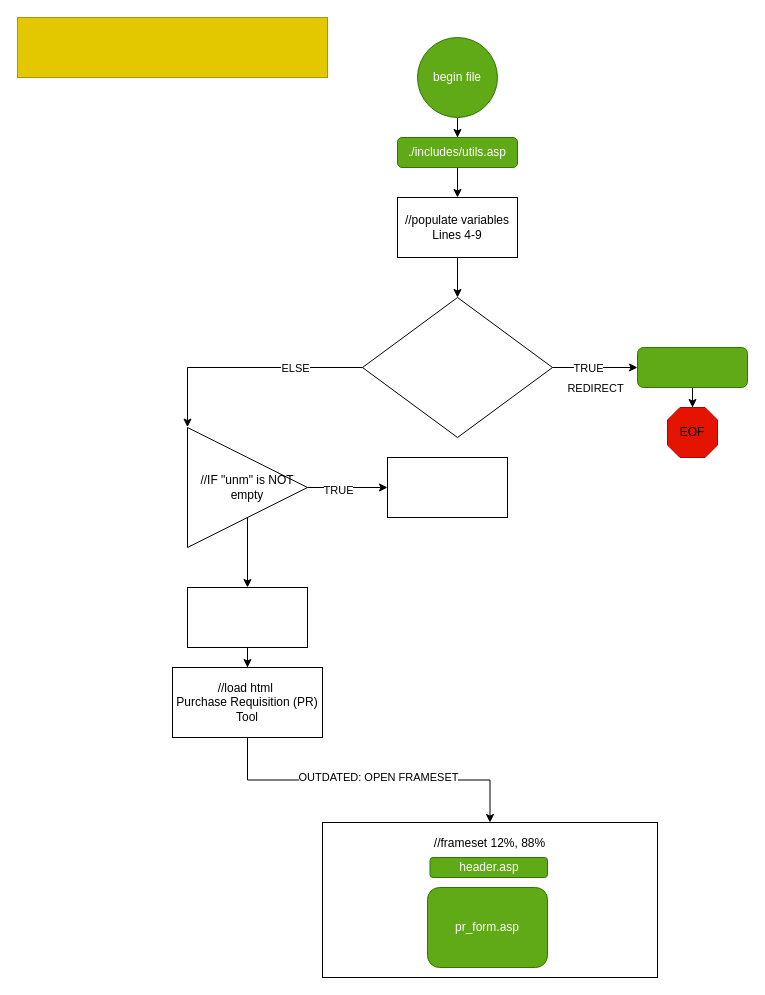
This 765x995 diagram has some shape labels left out. Each missing label, with the centre of its shape:
//IF "ssid" OR "uid" are empty: pixel 457 367
//populate session variables with defined variables above Lines 19-22: pixel 247 617
index.asp: pixel 692 367
make "unm" lowercase Line 16: pixel 447 487
purchase_requisition/capturnrun.asp: pixel 172 47
